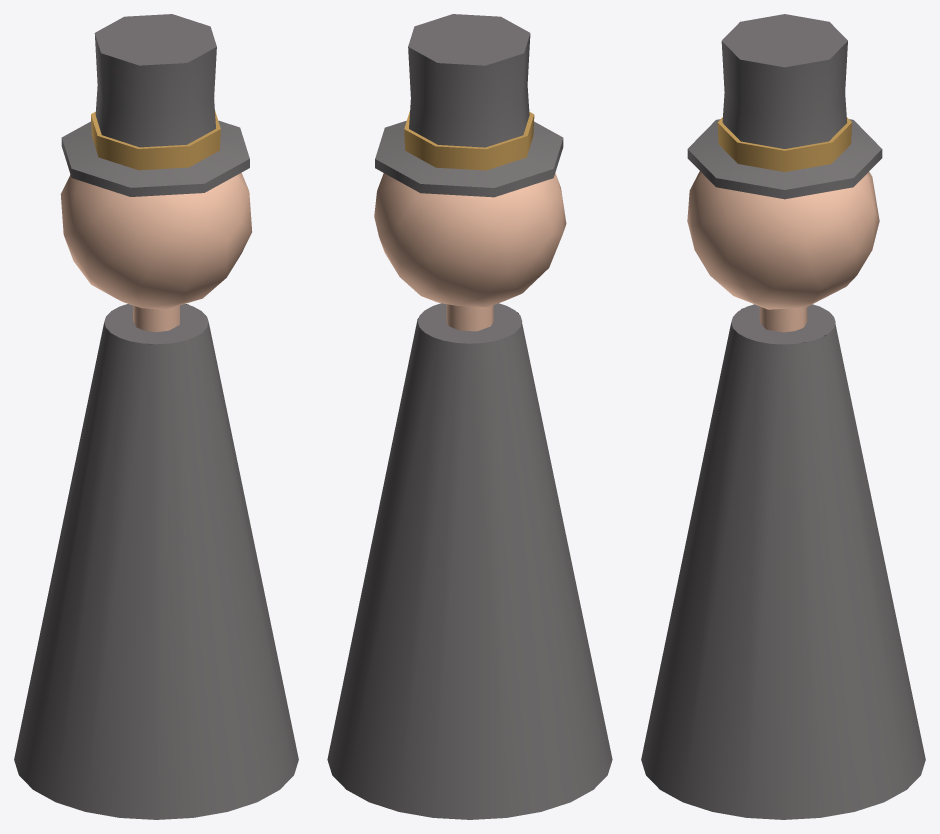
Rendered from per_cylinder.fbx.
The picture shows the model from 3 angles, left to right: view 1: azimuth 30°, elevation 25°; view 2: azimuth 150°, elevation 25°; view 3: azimuth 270°, elevation 25°; orthographic projection.
Parts seen in each view (by area): view 1: Cone.004; view 2: Cone.004; view 3: Cone.004.
Boxes of the visible parts, x1,y1,x2,y2 form: Cone.004: (14, 14, 298, 819); Cone.004: (327, 14, 612, 819); Cone.004: (641, 14, 925, 819).
Size of the model in its own units: 200 by 557 by 200.
